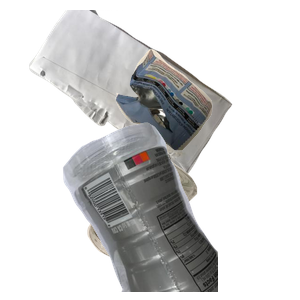glass: (85, 141, 275, 300)
paper: (27, 10, 252, 187)
plastic: (60, 120, 300, 300)
trash: (113, 46, 300, 189)
